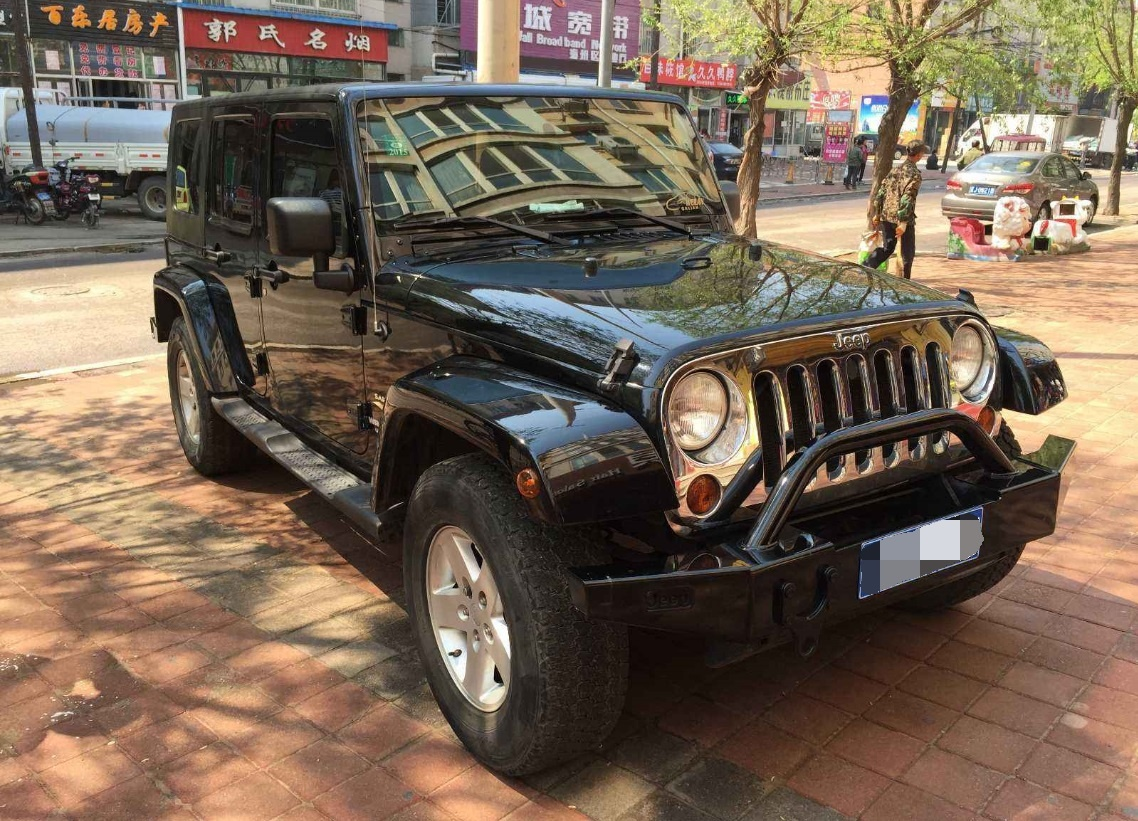jeep: (151, 68, 1063, 753)
